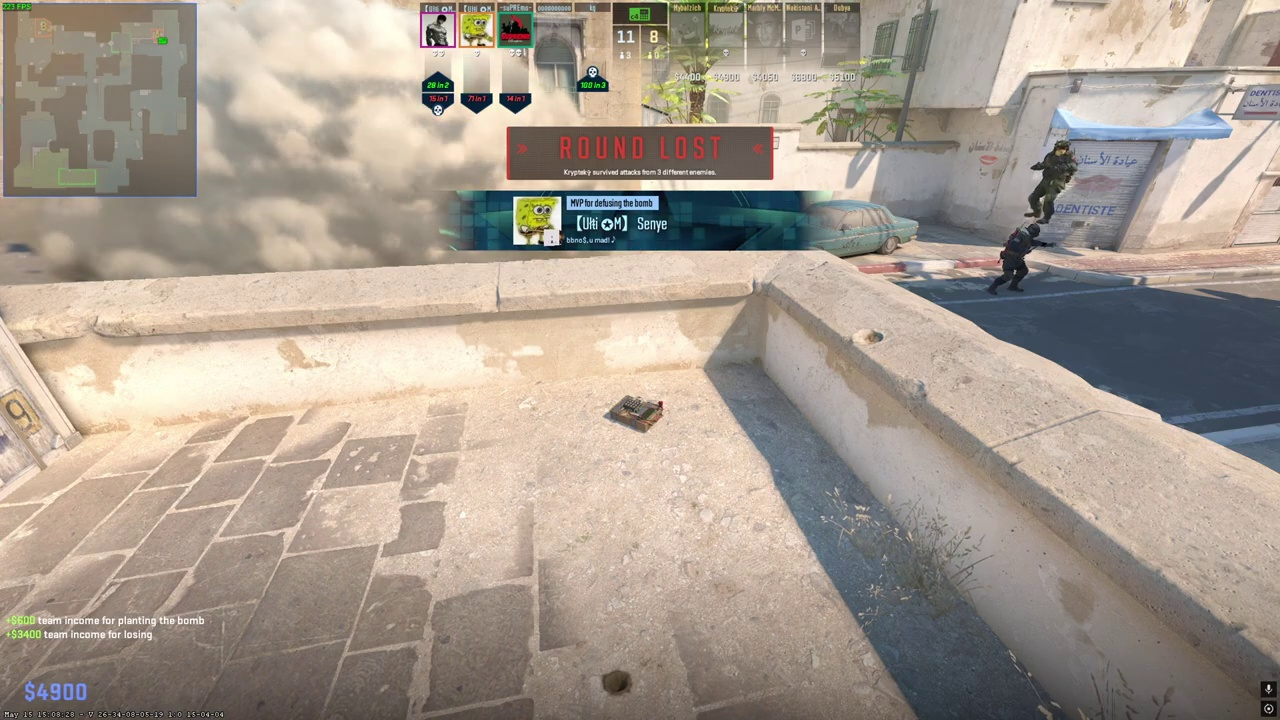CT: (994, 208, 1038, 295), (1030, 139, 1074, 223)
